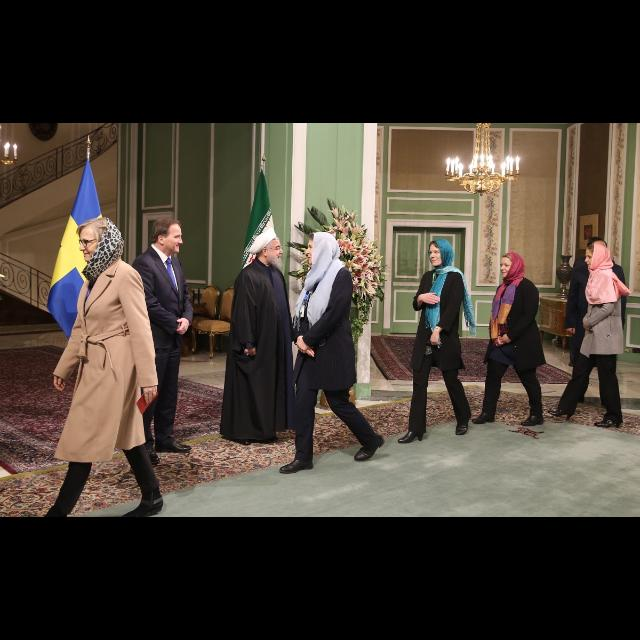head: (79, 218, 123, 262), (154, 218, 184, 254), (306, 232, 336, 266), (257, 233, 285, 264), (427, 239, 455, 267), (586, 244, 610, 270), (500, 252, 522, 278), (588, 238, 608, 260)
person: (276, 228, 388, 476), (219, 224, 303, 448), (128, 217, 198, 468), (396, 238, 479, 444), (546, 242, 634, 430), (470, 249, 550, 429), (562, 234, 628, 411)
